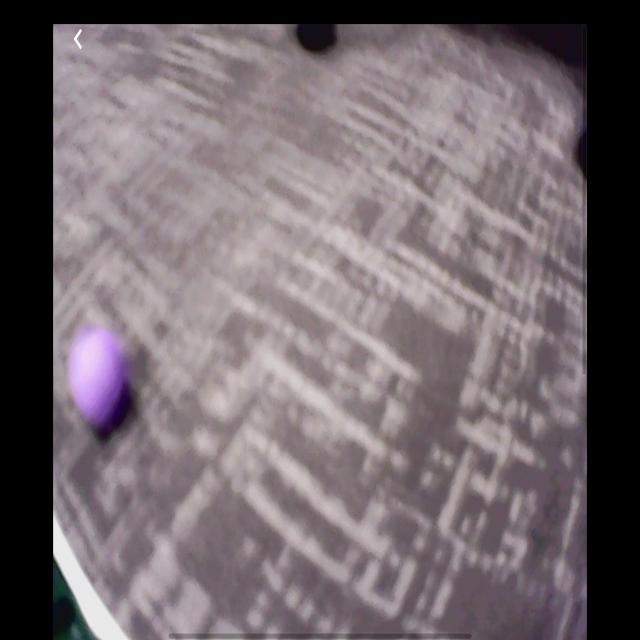ball: (67, 323, 133, 441)
